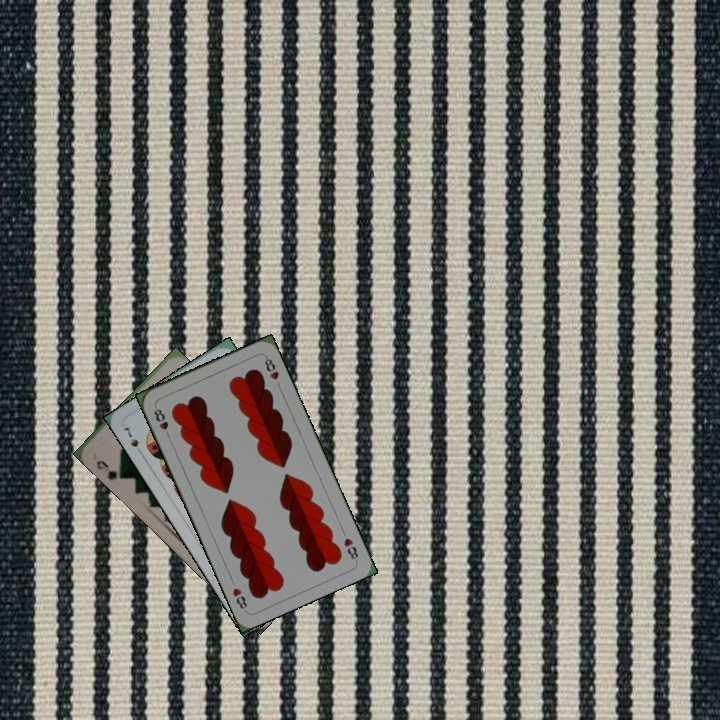G9: (92, 456, 126, 483)
H8: (150, 402, 173, 441), (340, 534, 361, 564)
S7: (120, 423, 146, 458)
